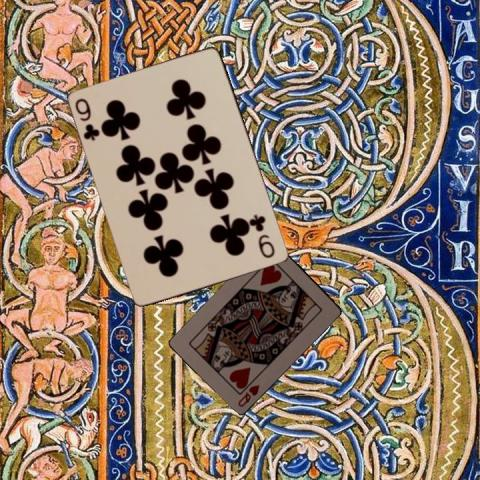9c: (72, 95, 102, 143), (249, 211, 277, 260)
Qh: (234, 381, 260, 408)
